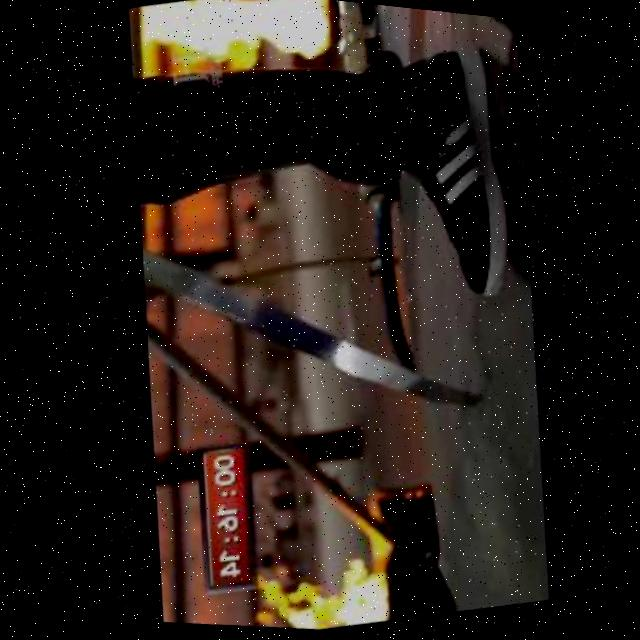fire: (125, 0, 338, 106), (248, 548, 398, 640)
